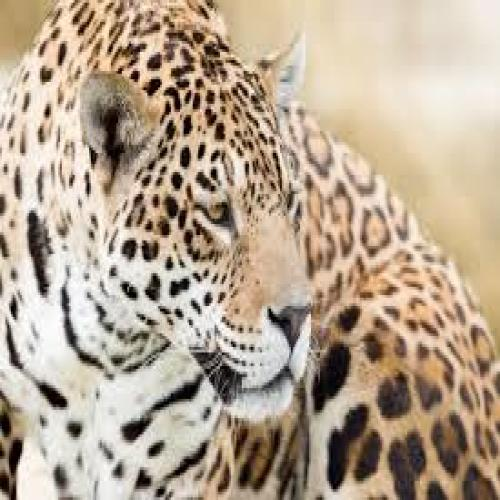jaguar_not-endangered: (29, 31, 373, 455)
